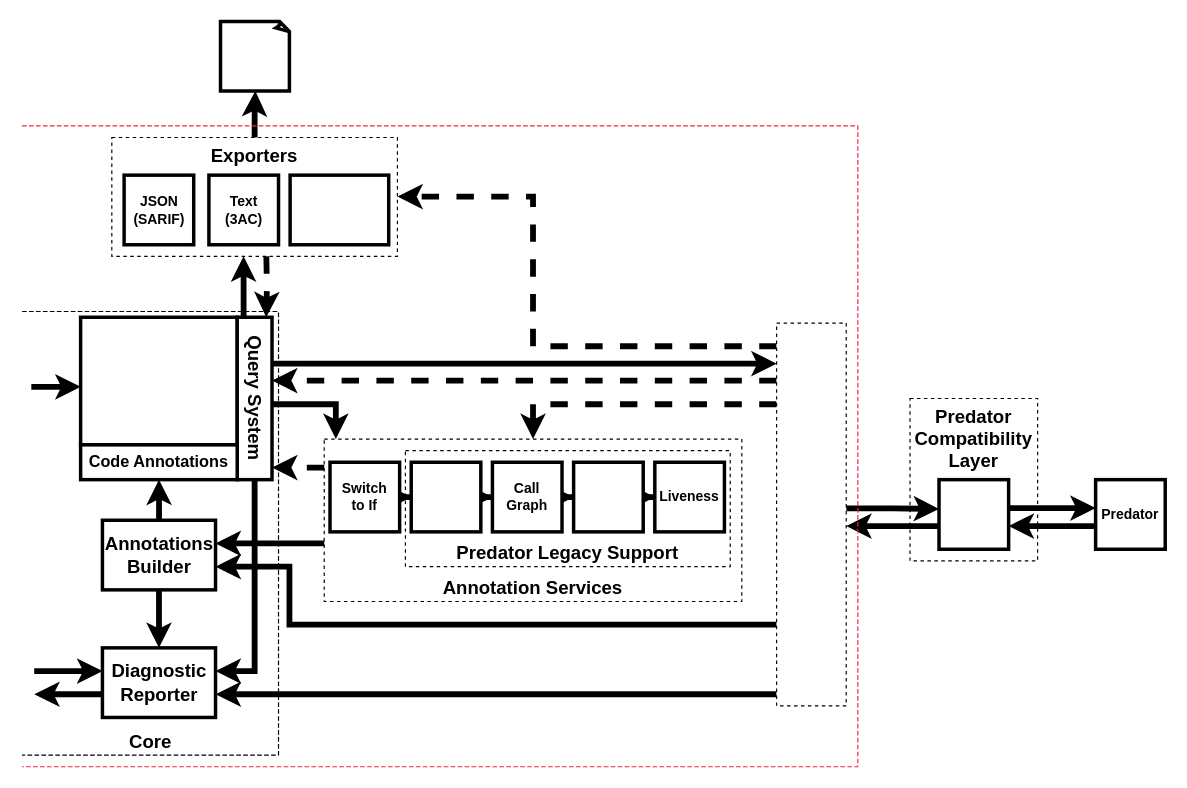
The diagram is 1187 pixels wide and 788 high, and some of its shapes have lost their labels. The shapes that lost their labels are listed below. From the top down, each one's centre as x and y in pixels, then its label:
(x=254, y=55): Requested Exporter Output
(x=339, y=209): Visualization (.DOT)
(x=158, y=380): Code Model
(x=445, y=496): Loop Scan
(x=607, y=496): Points To
(x=810, y=514): Public API
(x=973, y=513): Predator Adapter
